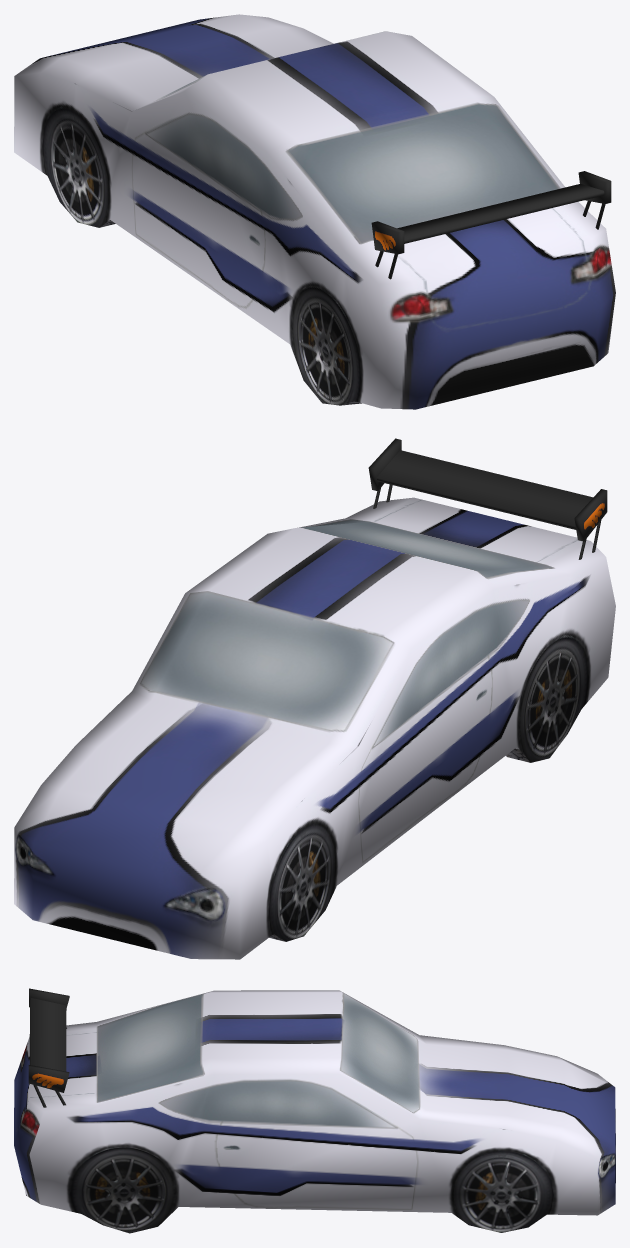
Rendered from car_test.fbx.
3 renders of one model, top to bottom at view 1: azimuth 30°, elevation 25°; view 2: azimuth 150°, elevation 25°; view 3: azimuth 270°, elevation 25°, orthographic. The views are drawn at different scales.
Visible parts, largest first — view 1: car; view 2: car; view 3: car.
Part boxes in pixels (bbox=[...]): car: bbox=[14, 14, 615, 409]; car: bbox=[14, 438, 615, 959]; car: bbox=[14, 988, 615, 1233].
Size of the model in its own units: 5.32 by 4.91 by 16.06.
